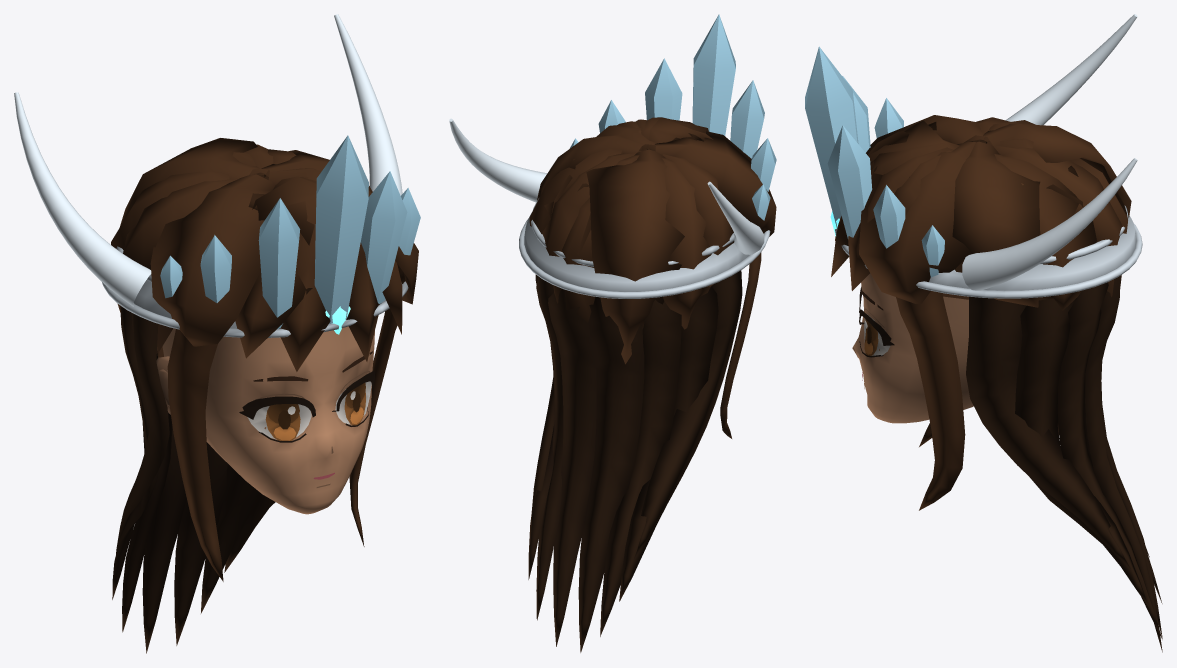
Rendered from h_dragonknight_ice_f.glb.
3 renders of one model, left to right at view 1: azimuth 30°, elevation 25°; view 2: azimuth 150°, elevation 25°; view 3: azimuth 270°, elevation 25°, orthographic. The views are drawn at different scales.
Visible parts, largest first — view 1: HairTop, DragonKnightTiara, HeadMesh, HairLong, HairFrame, LashR, EyeWhiteR; view 2: HairLong, HairTop, DragonKnightTiara, HairFrame; view 3: HairTop, HairLong, DragonKnightTiara, HeadMesh, HairFrame.
Part boxes in pixels (x1,y1,x2,y2): HairTop: (111,138,418,371); DragonKnightTiara: (14,14,420,337); HeadMesh: (162,326,374,514); HairLong: (112,305,275,653); HairFrame: (167,308,397,581); LashR: (239,396,315,442); EyeWhiteR: (247,404,311,439); HairLong: (528,270,742,652); HairTop: (529,117,776,364); DragonKnightTiara: (449,14,776,298); HairFrame: (720,252,761,438); HairTop: (831,115,1131,310); HairLong: (966,276,1162,652); DragonKnightTiara: (805,14,1142,298); HeadMesh: (852,273,973,423); HairFrame: (896,291,965,510).
Bounding box in the file's own units: 0.3385 × 0.619 × 0.334.
